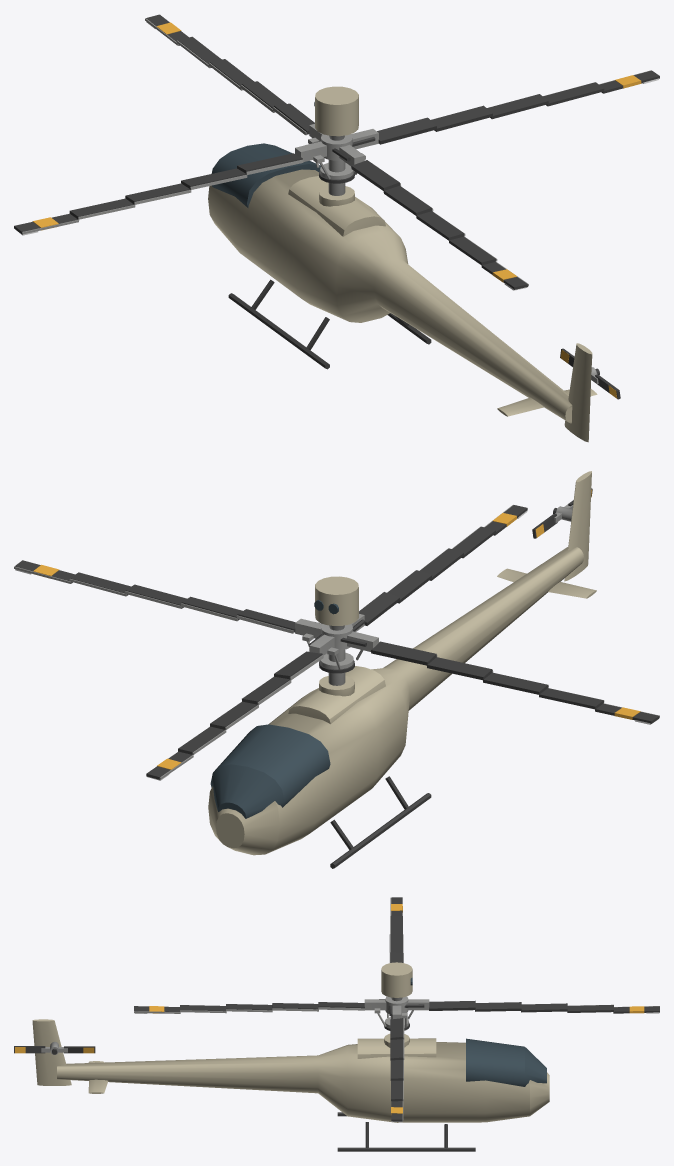
File: usa_heli_oh58.glb
3 views of the same model, one above another, from view 1: azimuth 30°, elevation 25°; view 2: azimuth 150°, elevation 25°; view 3: azimuth 270°, elevation 25° (orthographic). The views are drawn at different scales.
Parts seen in each view (by area): view 1: body, rotor; view 2: body, rotor, trotor; view 3: body, rotor, trotor.
Boxes of the visible parts, x1,y1,x2,y2 form: body: [208, 86, 597, 442]; rotor: [14, 14, 659, 290]; body: [208, 471, 596, 868]; rotor: [14, 504, 659, 780]; trotor: [532, 488, 592, 538]; body: [32, 962, 549, 1151]; rotor: [134, 897, 659, 1122]; trotor: [14, 1041, 95, 1054].
Size of the model in its own units: 10.68 by 3.7 by 13.12.
